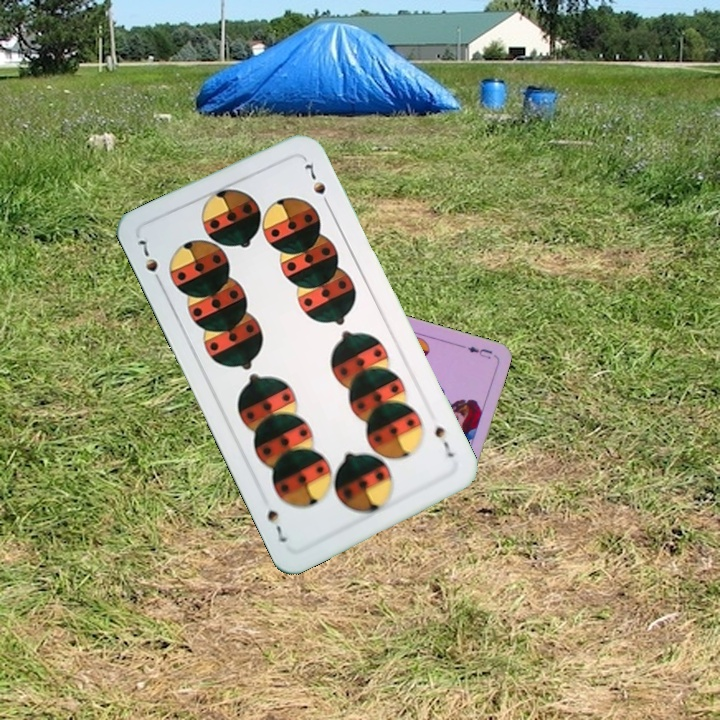EU: (456, 341, 495, 362)
S7: (135, 236, 166, 289), (430, 422, 457, 460)
